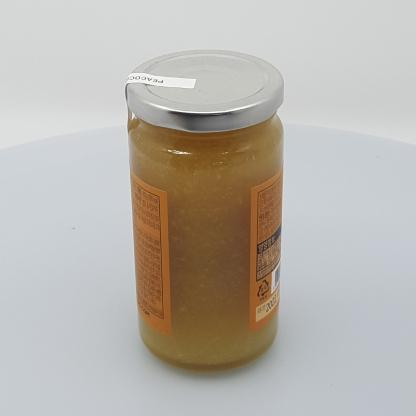--------------400G: (125, 50, 283, 372)
